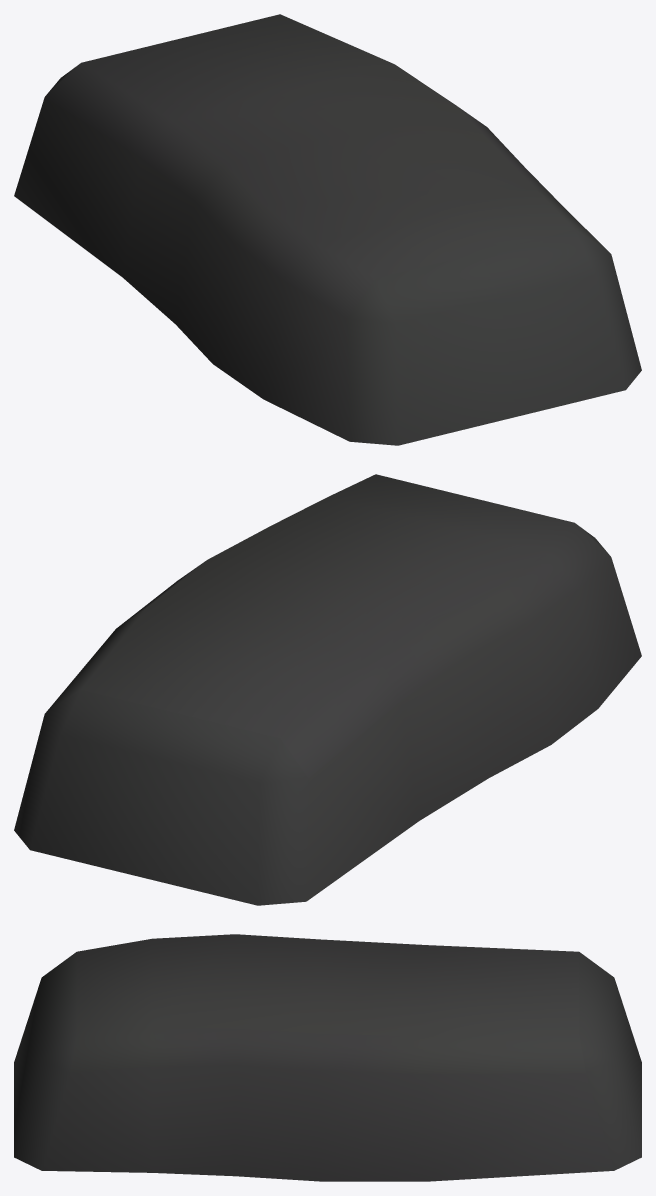
Rendered from Brick_3_2.obj.
The picture shows the model from 3 angles, top to bottom: view 1: azimuth 30°, elevation 25°; view 2: azimuth 150°, elevation 25°; view 3: azimuth 270°, elevation 25°; orthographic projection. The views are drawn at different scales.
Parts seen in each view (by area): view 1: Brick_3_2; view 2: Brick_3_2; view 3: Brick_3_2.
Boxes of the visible parts, x1,y1,x2,y2 form: Brick_3_2: [14, 14, 641, 445]; Brick_3_2: [14, 474, 641, 905]; Brick_3_2: [14, 934, 641, 1181].
Size of the model in its own units: 0.1606 by 0.0674 by 0.2997.
